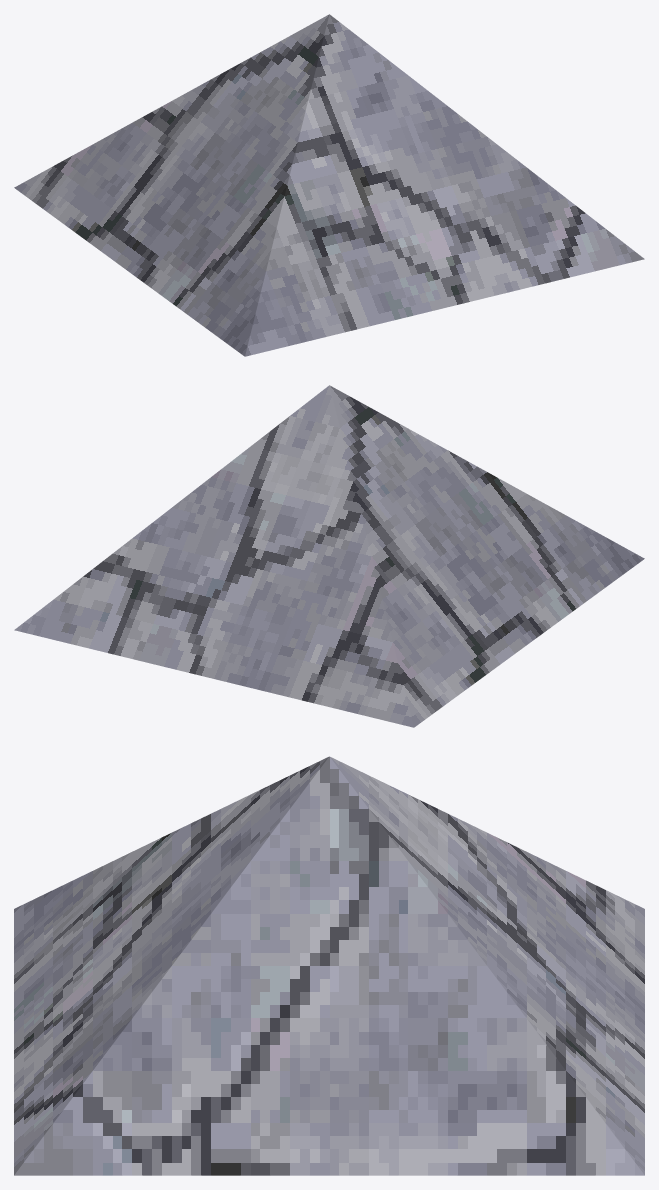
File: ki_hasira_dai.glb
3 renders of one model, top to bottom at view 1: azimuth 30°, elevation 25°; view 2: azimuth 150°, elevation 25°; view 3: azimuth 270°, elevation 25°, orthographic. The views are drawn at different scales.
Visible parts, largest first — view 1: ki_hasira_dai; view 2: ki_hasira_dai; view 3: ki_hasira_dai.
Boxes of the visible parts, x1,y1,x2,y2 form: ki_hasira_dai: (14, 14, 644, 356); ki_hasira_dai: (14, 385, 644, 727); ki_hasira_dai: (14, 756, 644, 1175).
Size of the model in its own units: 25 by 12.5 by 25.
1 material, 1 textured.
